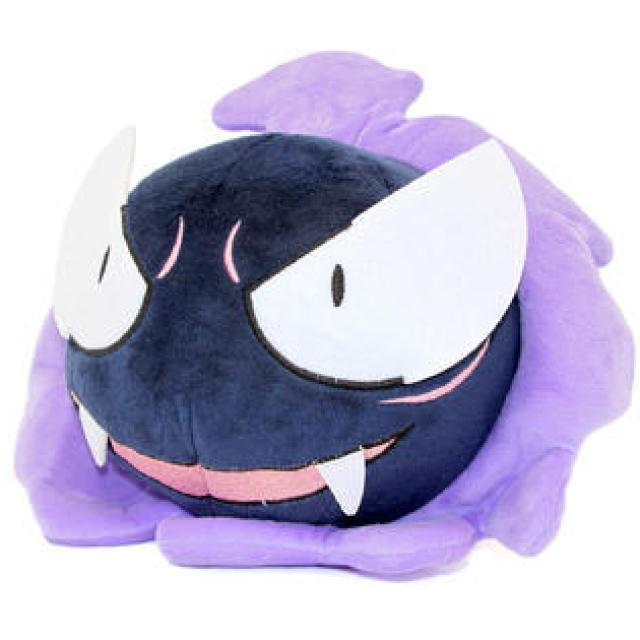Gastly: (0, 37, 637, 602)
